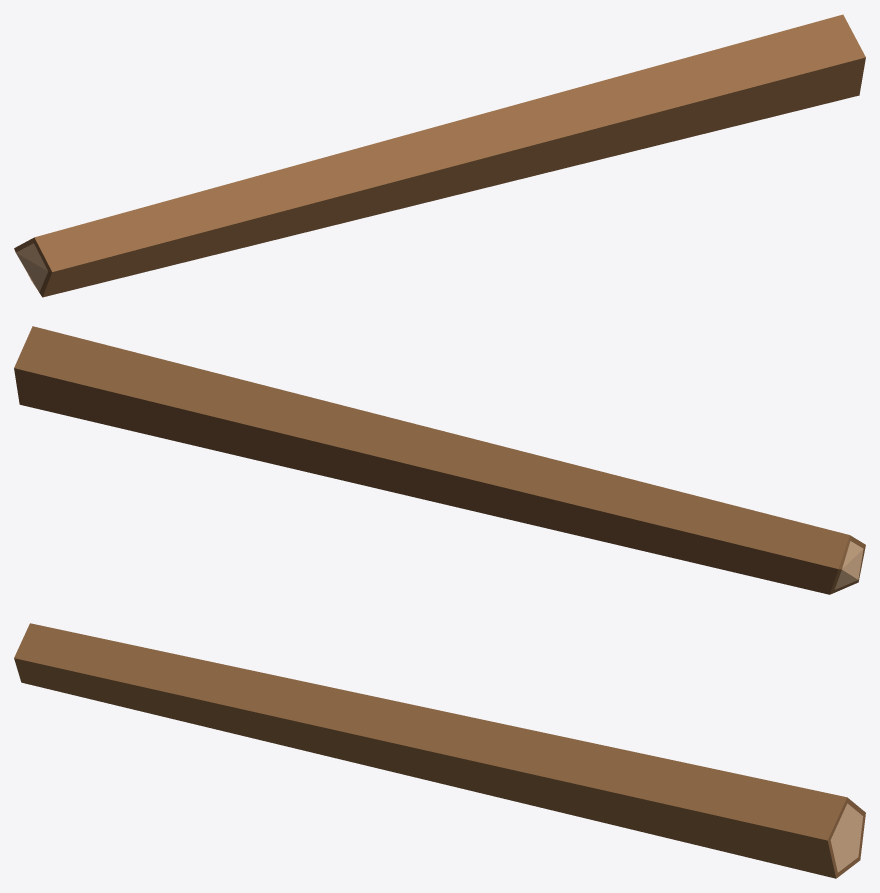
The model's file is Pine_Log_03_LOD.fbx.
The picture shows the model from 3 angles, top to bottom: view 1: azimuth 30°, elevation 25°; view 2: azimuth 150°, elevation 25°; view 3: azimuth 330°, elevation 25°; orthographic projection.
Parts seen in each view (by area): view 1: Pine_Log_03_LOD0; view 2: Pine_Log_03_LOD0; view 3: Pine_Log_03_LOD0.
Part boxes in pixels (x1,y1,x2,y2): Pine_Log_03_LOD0: (14, 14, 865, 297); Pine_Log_03_LOD0: (14, 326, 865, 594); Pine_Log_03_LOD0: (14, 623, 865, 878).
Size of what is drawn, in the model's own units: 712 by 59.08 by 65.36.
